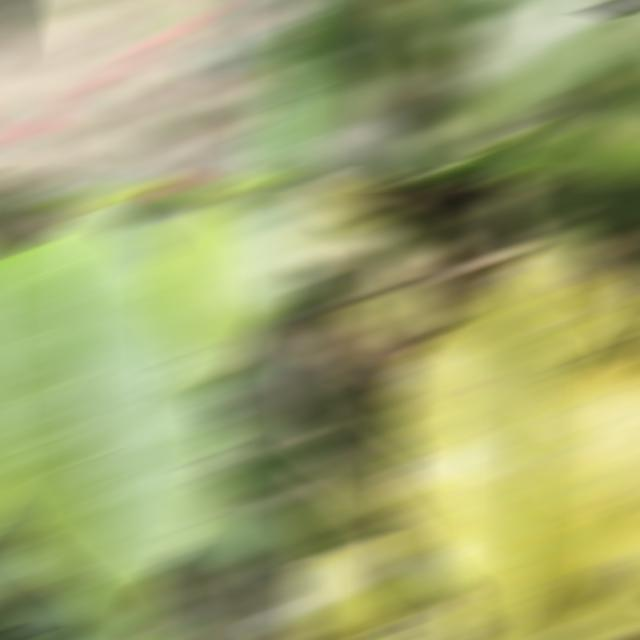Leaf: (381, 256, 640, 636), (0, 213, 232, 636), (144, 205, 283, 376), (449, 4, 640, 125), (297, 357, 408, 471), (297, 547, 426, 636), (297, 206, 421, 295), (297, 473, 404, 552), (178, 486, 280, 558), (297, 4, 419, 63), (561, 182, 640, 252), (297, 69, 375, 133), (519, 136, 640, 176), (337, 288, 432, 334), (94, 205, 177, 214)
